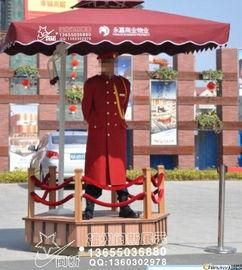up: (78, 47, 139, 222)
